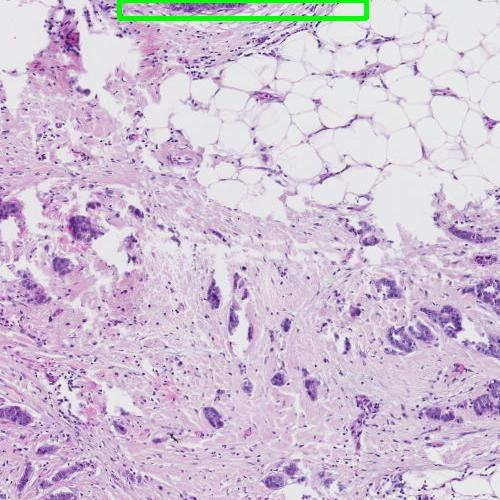DCIS: (119, 0, 366, 18)
